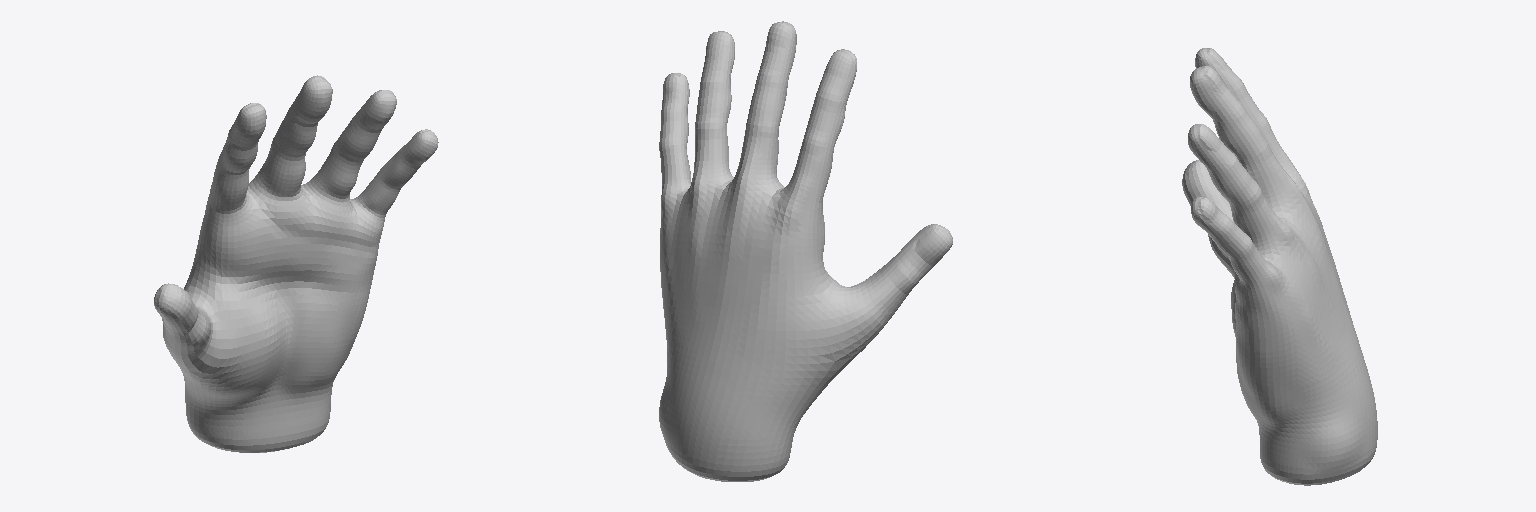
The model's file is NAC_HandZ.OBJ.
3 views of the same model, side by side, from view 1: azimuth 30°, elevation 25°; view 2: azimuth 150°, elevation 25°; view 3: azimuth 270°, elevation 25° (orthographic).
Visible parts, largest first — view 1: Group16023; view 2: Group16023; view 3: Group16023.
Part boxes in pixels (x1,y1,x2,y2): Group16023: (154, 75, 438, 452); Group16023: (659, 21, 952, 481); Group16023: (1182, 48, 1377, 485).
Bounding box in the file's own units: 0.602 × 0.8141 × 0.3597.